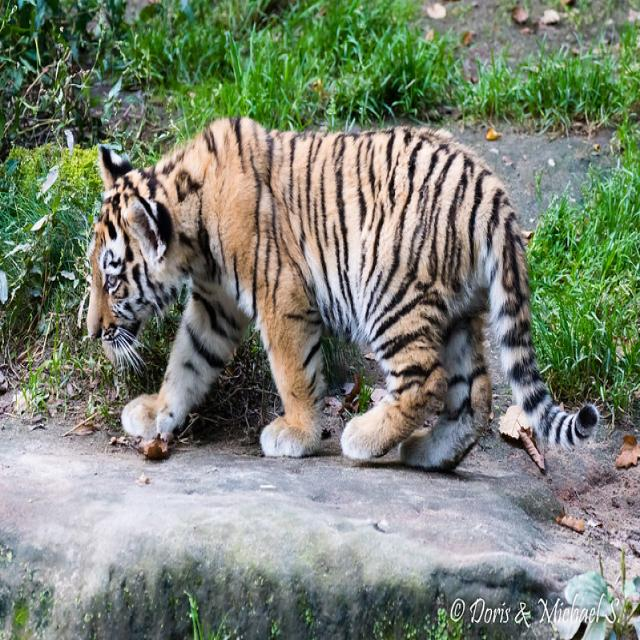Tiger: (75, 87, 603, 521)
